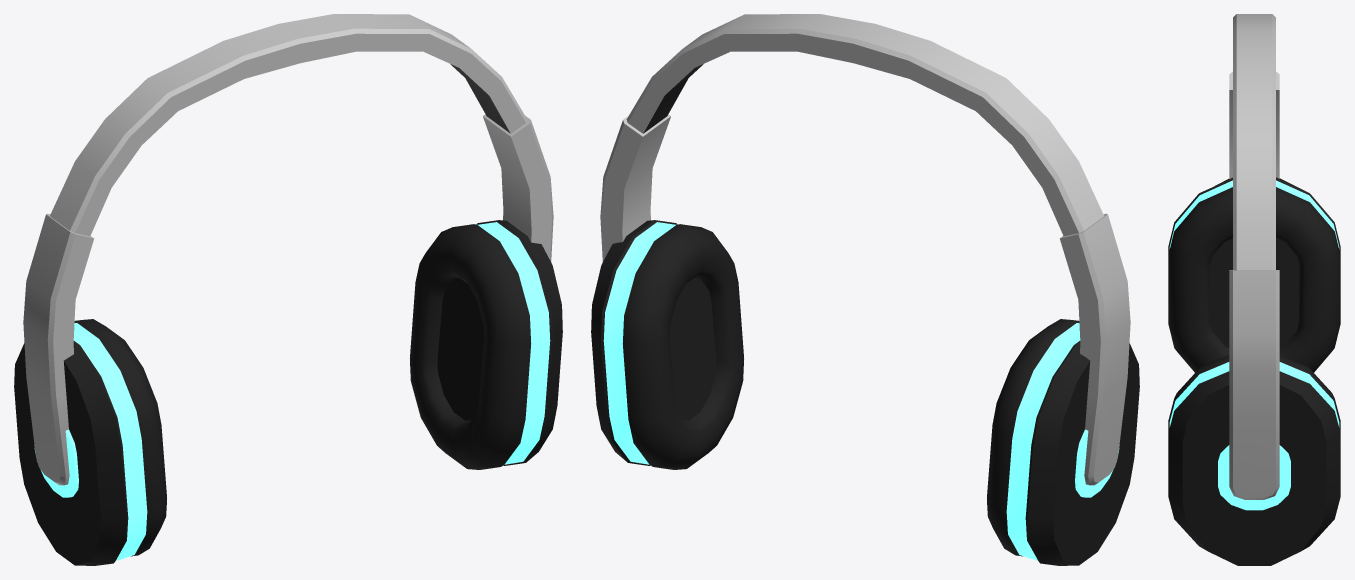
Rendered from Headset_2.fbx.
The picture shows the model from 3 angles, left to right: view 1: azimuth 30°, elevation 25°; view 2: azimuth 150°, elevation 25°; view 3: azimuth 270°, elevation 25°; orthographic projection. The views are drawn at different scales.
Visible parts, largest first — view 1: Headset 2; view 2: Headset 2; view 3: Headset 2.
Part boxes in pixels (x1,y1,x2,y2): Headset 2: (14,14,562,565); Headset 2: (591,14,1139,565); Headset 2: (1168,14,1340,565).
Bounding box in the file's own units: 30.21 × 27.19 × 10.05.
